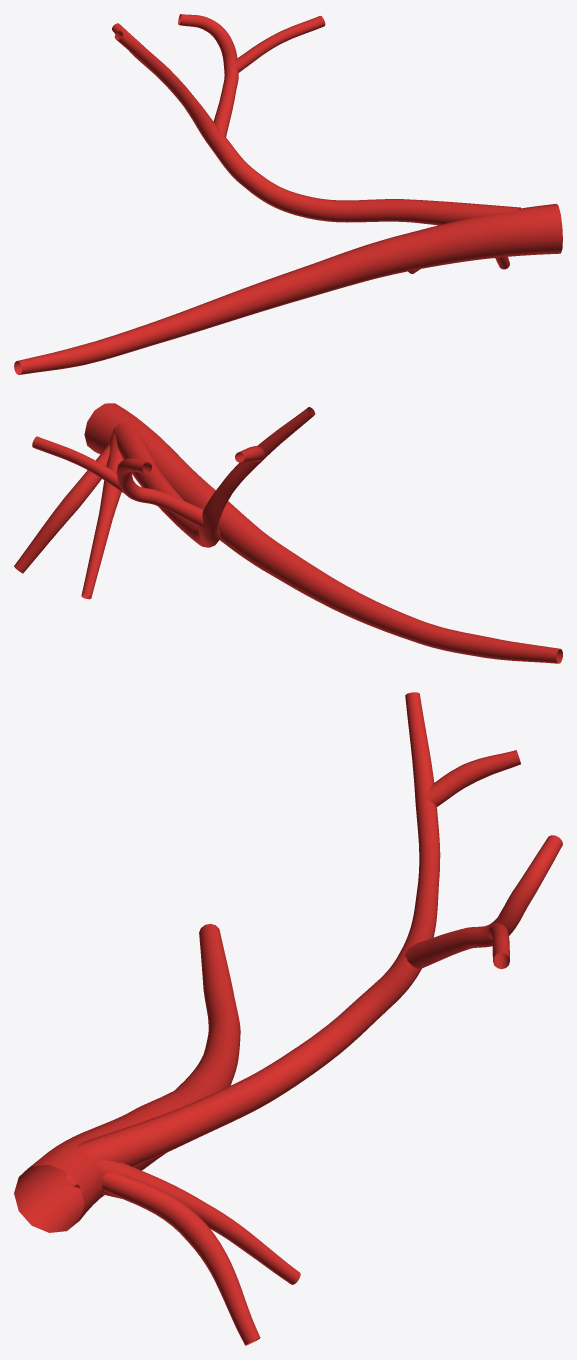
File: circulatorio-superior-vein-of-right-lung.glb
The picture shows the model from 3 angles, top to bottom: view 1: azimuth 30°, elevation 25°; view 2: azimuth 150°, elevation 25°; view 3: azimuth 270°, elevation 25°; orthographic projection. The views are drawn at different scales.
Visible parts, largest first — view 1: Superior vein of right lung; view 2: Superior vein of right lung; view 3: Superior vein of right lung.
Part boxes in pixels (x1=…): Superior vein of right lung: x1=14, y1=14, x2=562, y2=374; Superior vein of right lung: x1=14, y1=403, x2=562, y2=663; Superior vein of right lung: x1=14, y1=692, x2=562, y2=1345.
Bounding box in the file's own units: 0.0812 × 0.0426 × 0.0511.
